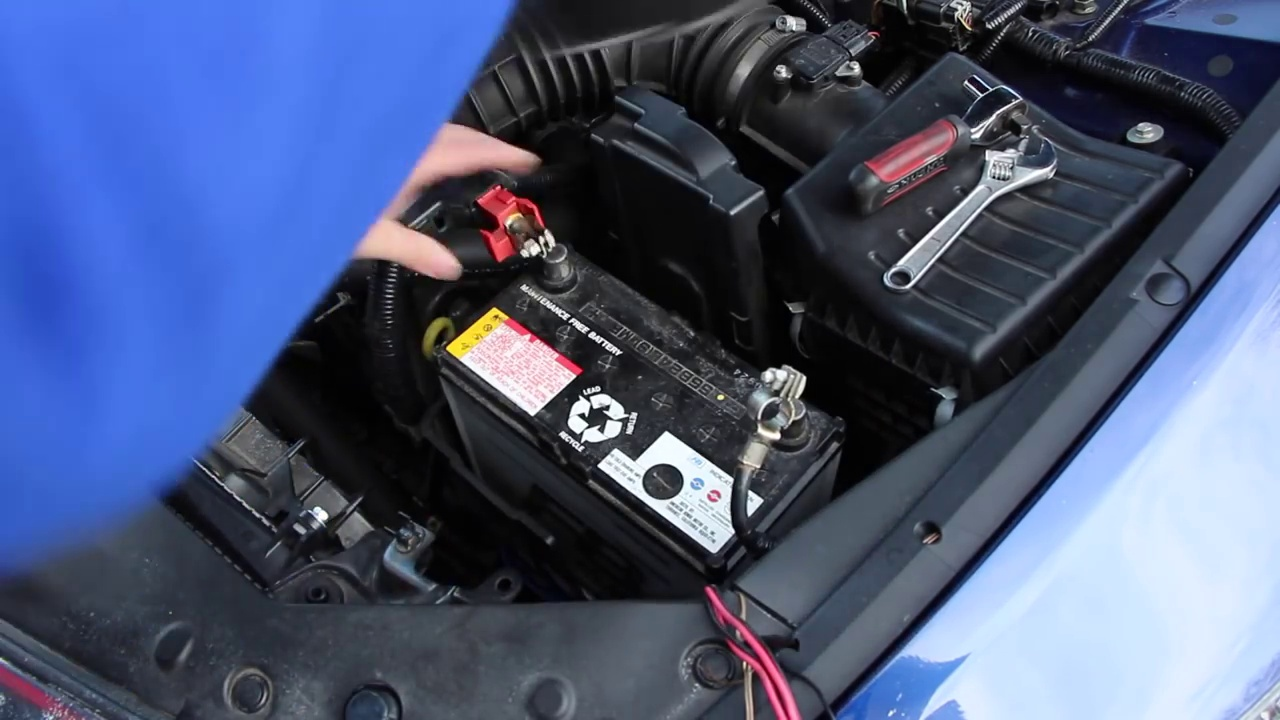battery: (431, 221, 852, 581)
neg_disconnected: (732, 348, 842, 477)
pos_disconnected: (454, 169, 583, 303)
pos_touched: (378, 118, 584, 298)
